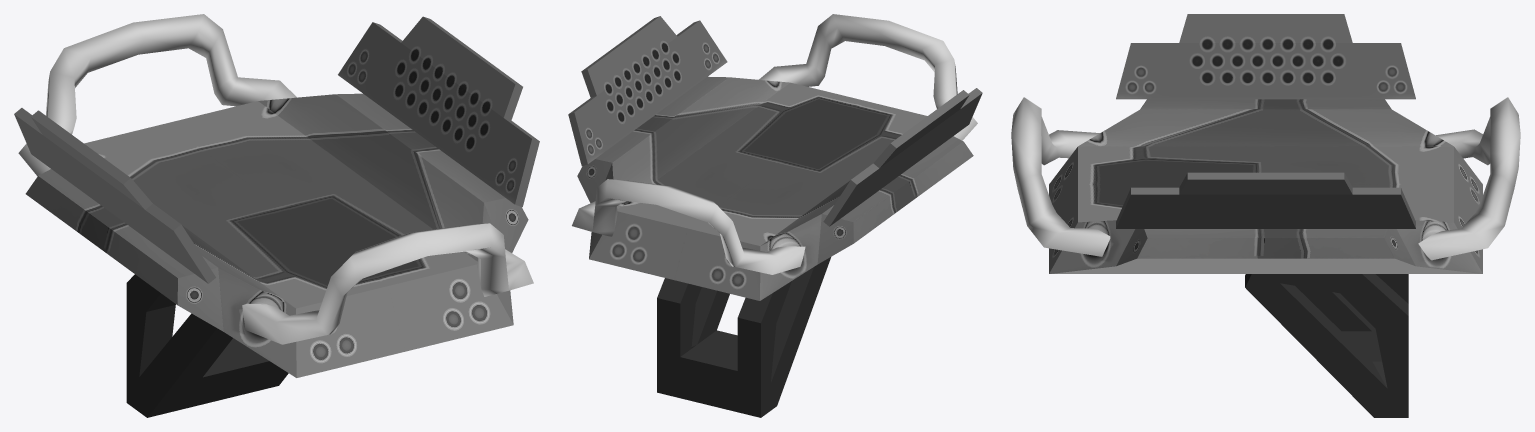
Rendered from shelf-input.glb.
The picture shows the model from 3 angles, left to right: view 1: azimuth 30°, elevation 25°; view 2: azimuth 150°, elevation 25°; view 3: azimuth 270°, elevation 25°; orthographic projection. The views are drawn at different scales.
Visible parts, largest first — view 1: Plane.004; view 2: Plane.004; view 3: Plane.004.
Part boxes in pixels (bbox=[...]): Plane.004: bbox=[14, 14, 539, 417]; Plane.004: bbox=[568, 14, 982, 417]; Plane.004: bbox=[1011, 14, 1520, 417].
Bounding box in the file's own units: 6.3 × 5.28 × 8.21.
1 material, 1 textured.
